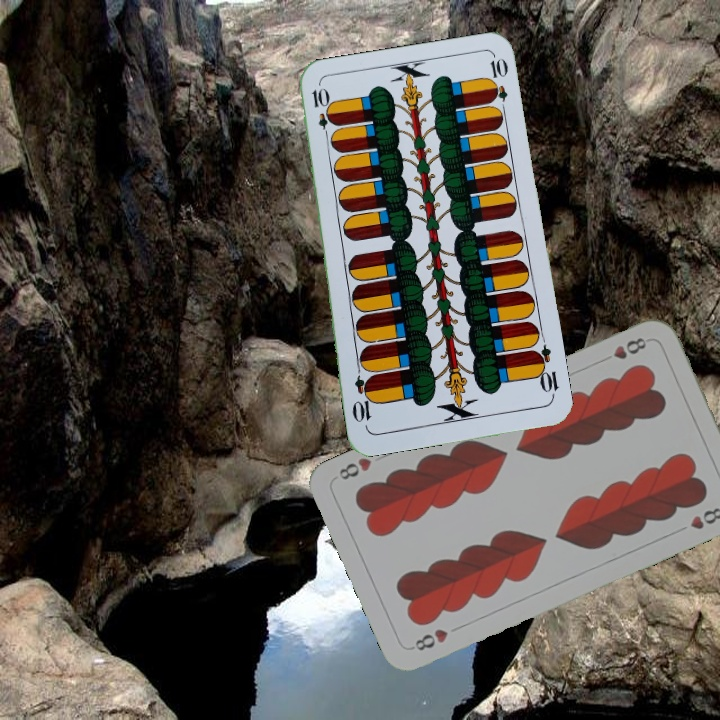E10: (529, 342, 561, 401), (308, 84, 334, 143)
H8: (597, 333, 649, 365), (407, 624, 451, 654)
